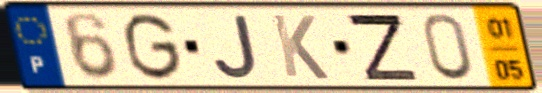0: (421, 12, 476, 83)
6: (61, 11, 120, 83)
G: (121, 10, 186, 83)
J: (210, 13, 262, 82)
K: (268, 12, 332, 82)
Z: (341, 11, 422, 83)
